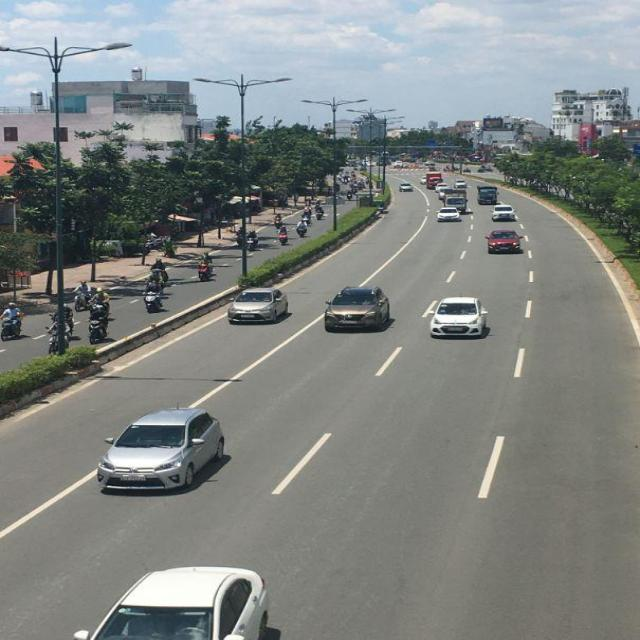car: (51, 566, 295, 639), (95, 408, 229, 494), (324, 285, 391, 334), (428, 293, 489, 339), (229, 288, 291, 327), (486, 228, 524, 254), (493, 205, 517, 221), (436, 210, 462, 223), (398, 184, 414, 194)
motorcycle: (0, 310, 25, 340), (145, 292, 170, 314)
truck: (478, 186, 501, 206)
